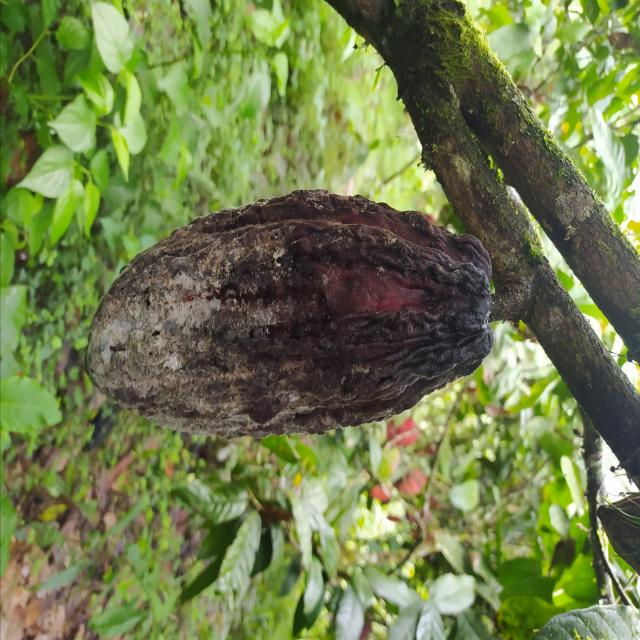Fitoftora: (90, 188, 493, 440)
